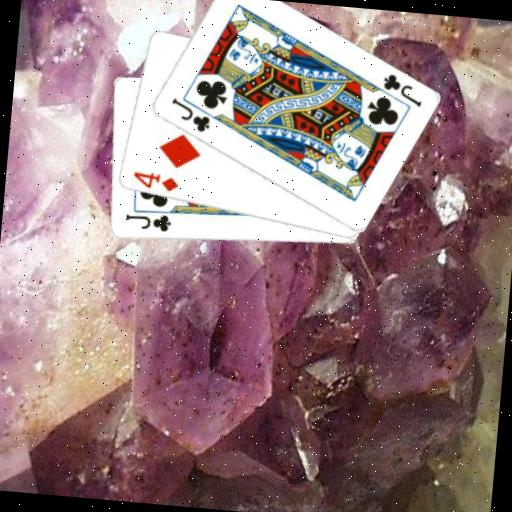4D: (129, 168, 181, 194)
JC: (166, 94, 214, 135), (378, 70, 426, 109), (121, 209, 173, 235)
